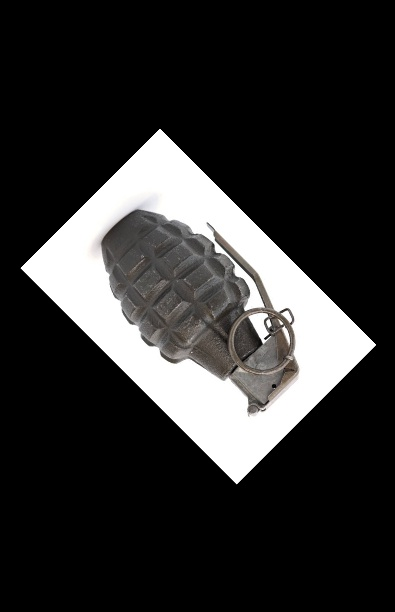e1: (98, 203, 302, 412)
